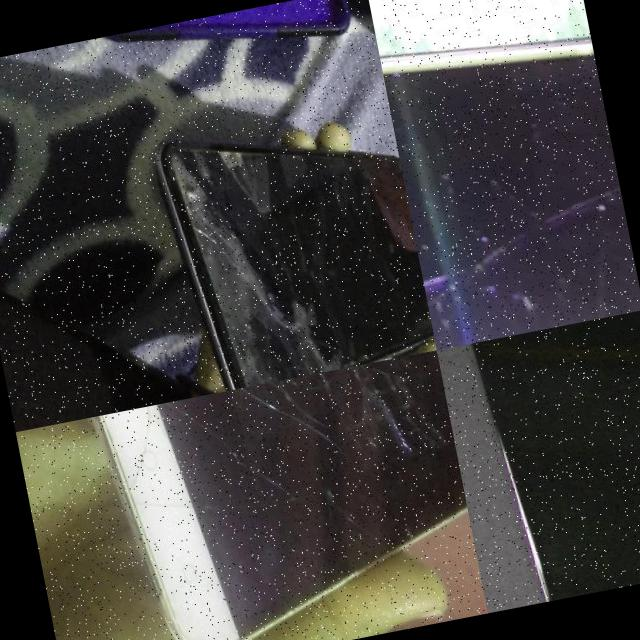screen crack: (382, 28, 640, 349), (54, 353, 438, 524), (156, 118, 314, 355)
